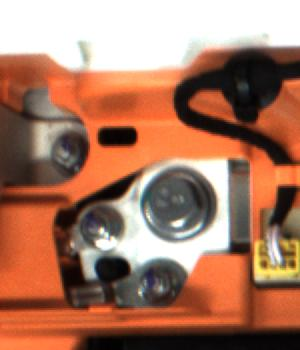nut_b: (139, 164, 215, 238)
screw_s: (137, 263, 187, 309), (79, 200, 121, 247), (50, 134, 91, 174)
